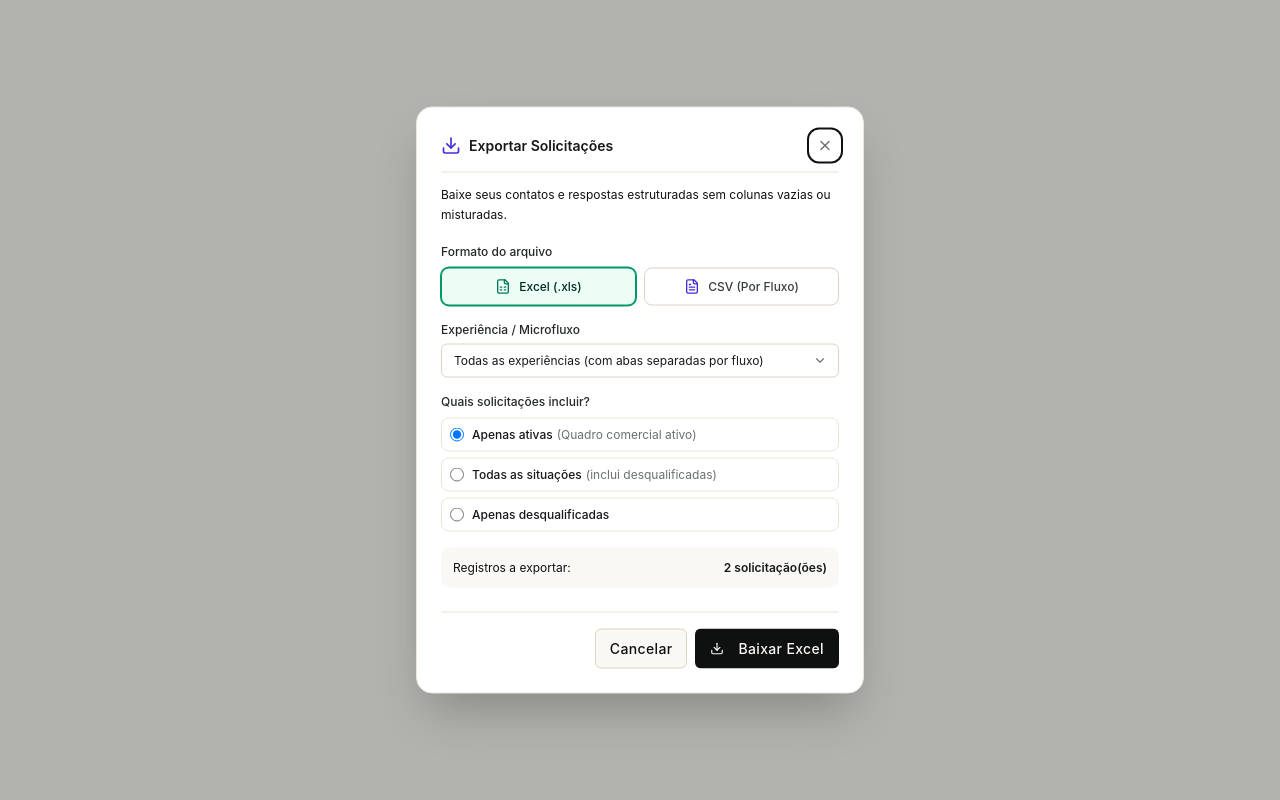
Test: DialogoExportacaoSolicitacoes › ao alternar para CSV, exige fluxo específico e remove a opção 'todas'
This screenshot has width=1280, height=800.
Click the button "CSV (Por Fluxo)" at coordinates (742, 286), box [644,268,839,306]
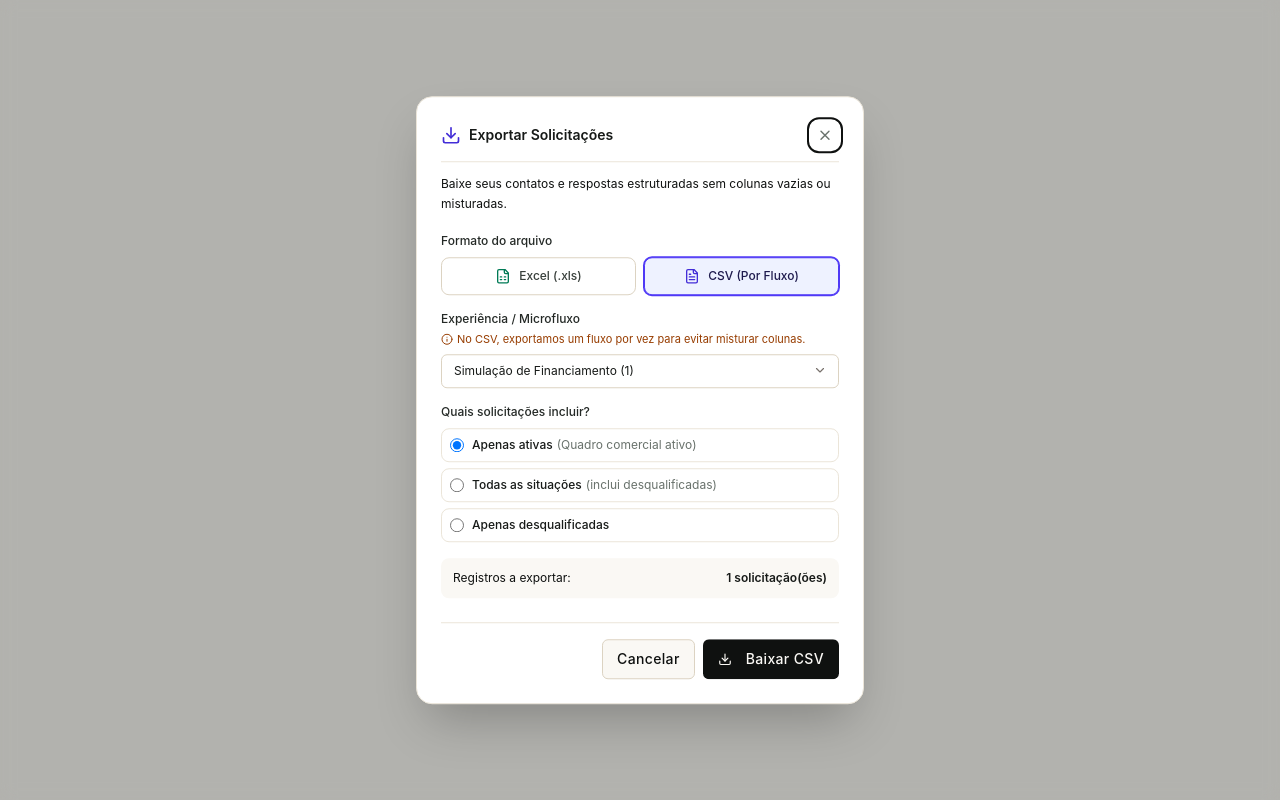
Expected: the text "Todas as experiências (com abas separadas por fluxo)" is not shown
Expected: the text "No CSV, exportamos um fluxo por vez para evitar misturar colunas" is shown, [457,332,806,346]
